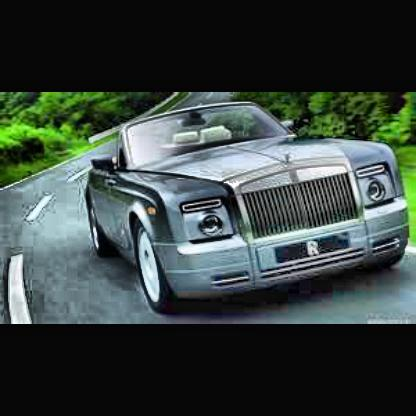Rolls-Royce Phantom Drophead Coupe Convertible 2012: (85, 100, 415, 319)
